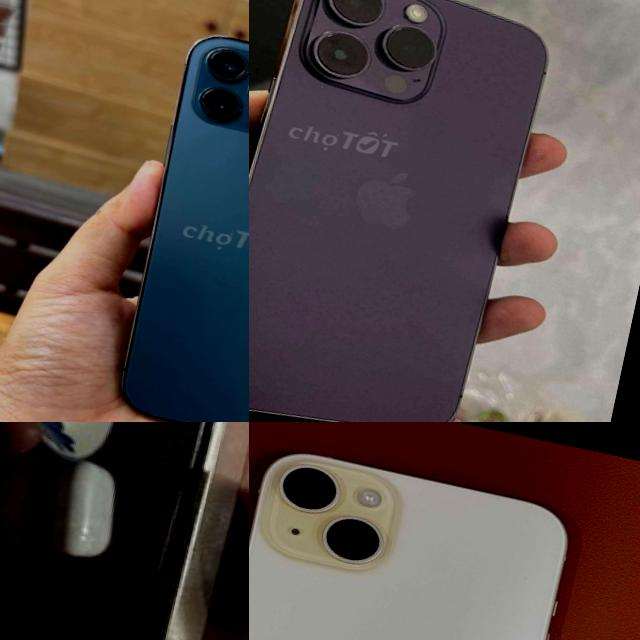gen_12_13: (109, 24, 249, 422)
gen_14: (249, 0, 562, 422)
gen_15: (249, 427, 582, 640), (0, 422, 249, 640)
